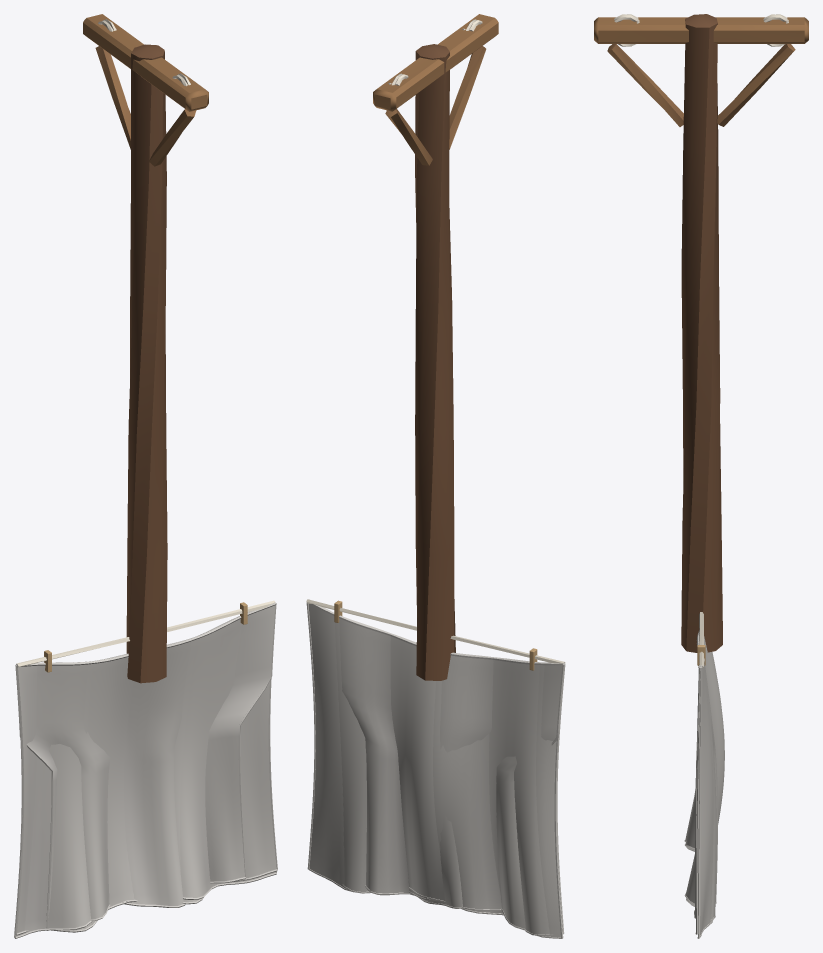
The model's file is pr_washline.glb.
3 renders of one model, left to right at view 1: azimuth 30°, elevation 25°; view 2: azimuth 150°, elevation 25°; view 3: azimuth 270°, elevation 25°, orthographic.
Parts seen in each view (by area): view 1: PR_washline__cloth2, PR_washline__post, PR_washline__cloth0, PR_washline__cloth1, PR_washline__line; view 2: PR_washline__post, PR_washline__cloth0, PR_washline__cloth2, PR_washline__cloth1, PR_washline__line; view 3: PR_washline__post, PR_washline__cloth0, PR_washline__cloth1, PR_washline__cloth2.
Boxes of the visible parts, left/top/right/bottom form: PR_washline__cloth2: left=15, top=602, right=276, bottom=930; PR_washline__post: left=83, top=14, right=208, bottom=683; PR_washline__cloth0: left=15, top=602, right=276, bottom=935; PR_washline__cloth1: left=14, top=602, right=277, bottom=938; PR_washline__line: left=16, top=600, right=275, bottom=667; PR_washline__post: left=373, top=14, right=498, bottom=680; PR_washline__cloth0: left=306, top=600, right=565, bottom=935; PR_washline__cloth2: left=309, top=599, right=564, bottom=930; PR_washline__cloth1: left=322, top=607, right=564, bottom=938; PR_washline__line: left=306, top=599, right=565, bottom=663; PR_washline__post: left=594, top=14, right=808, bottom=652; PR_washline__cloth0: left=684, top=636, right=724, bottom=938; PR_washline__cloth1: left=684, top=634, right=721, bottom=934; PR_washline__cloth2: left=685, top=630, right=717, bottom=918.
Bounding box in the file's own units: 1.01 × 3.2 × 0.72.
